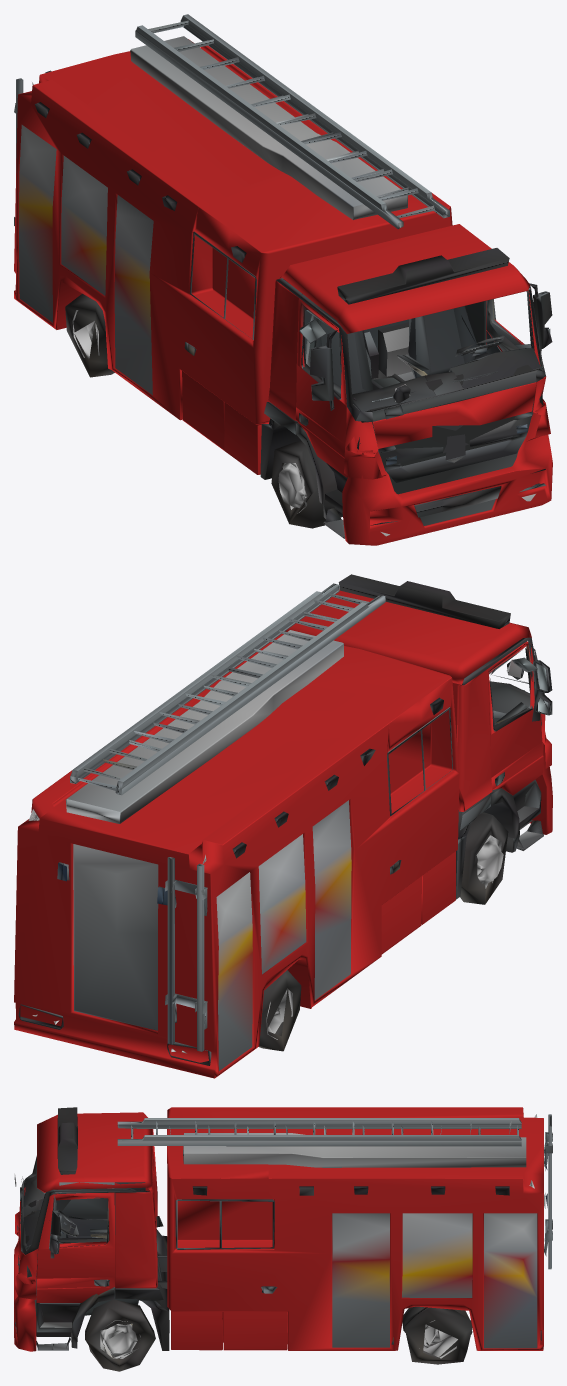
3 views of the same model, one above another, from view 1: azimuth 30°, elevation 25°; view 2: azimuth 150°, elevation 25°; view 3: azimuth 270°, elevation 25° (orthographic). The views are drawn at different scales.
Visible parts, largest first — view 1: body, wheel_FL, wheel_RL; view 2: body, wheel_FL, wheel_RL; view 3: body, wheel_FR, wheel_RR.
Part boxes in pixels (left/top/right/bottom): body: left=14, top=14, right=552, bottom=545; wheel_FL: left=271, top=441, right=325, bottom=528; wheel_RL: left=65, top=293, right=114, bottom=377; body: left=14, top=574, right=552, bottom=1078; wheel_FL: left=460, top=812, right=508, bottom=904; wheel_RL: left=259, top=970, right=301, bottom=1051; body: left=14, top=1107, right=552, bottom=1351; wheel_FR: left=85, top=1299, right=155, bottom=1371; wheel_RR: left=402, top=1306, right=472, bottom=1364.
Bounding box in the file's own units: 3.38 × 3.82 × 8.46.
